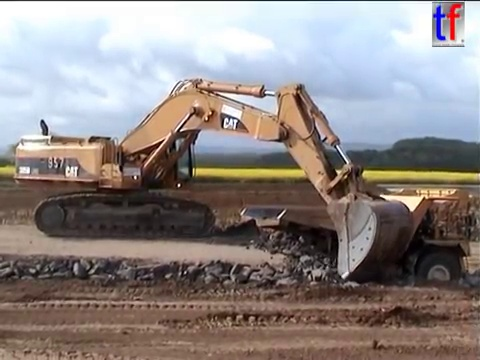excavator: (10, 75, 416, 287)
truck: (237, 184, 480, 298)
